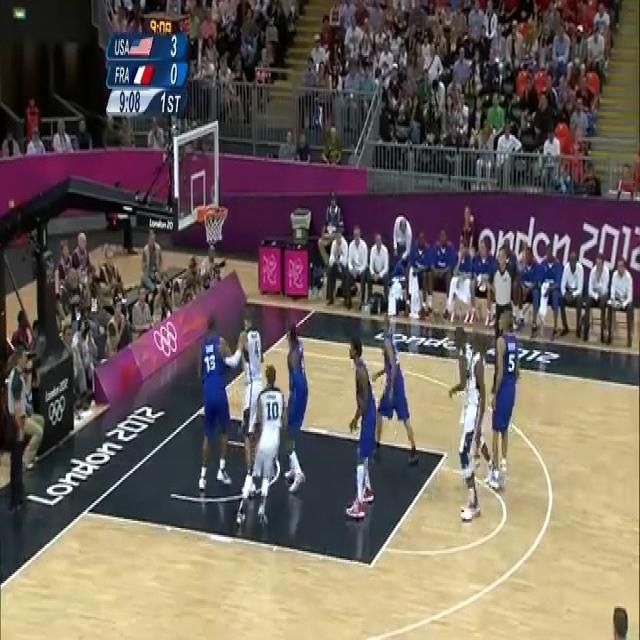hoop: (205, 205, 226, 247)
person: (449, 325, 494, 520), (443, 308, 492, 484), (240, 363, 288, 535), (340, 327, 379, 522), (374, 309, 422, 466), (197, 317, 233, 488), (280, 324, 315, 493), (236, 312, 272, 472), (491, 311, 523, 491)
